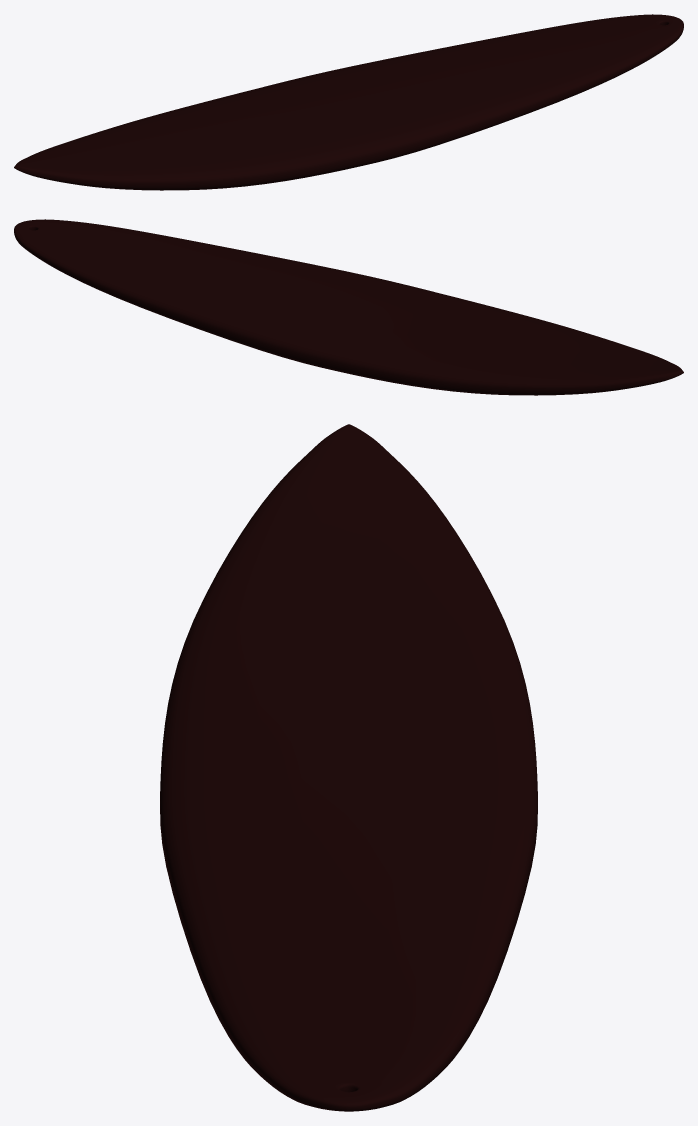
File: surfboard-plain.FBX
3 renders of one model, top to bottom at view 1: azimuth 30°, elevation 25°; view 2: azimuth 150°, elevation 25°; view 3: azimuth 270°, elevation 25°, orthographic. The views are drawn at different scales.
Visible parts, largest first — view 1: Box002; view 2: Box002; view 3: Box002.
Part boxes in pixels (x1=…): Box002: x1=14, y1=14, x2=683, y2=190; Box002: x1=14, y1=219, x2=683, y2=395; Box002: x1=160, y1=424, x2=537, y2=1111.
Size of the model in its own units: 241 by 15.73 by 59.23.
